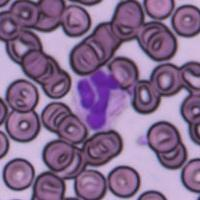N: (70, 66, 132, 132)
